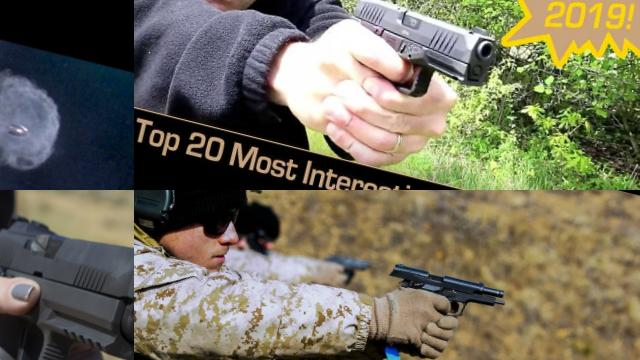handgun: (312, 0, 505, 190), (0, 0, 134, 190), (0, 190, 134, 360), (378, 258, 513, 341)
